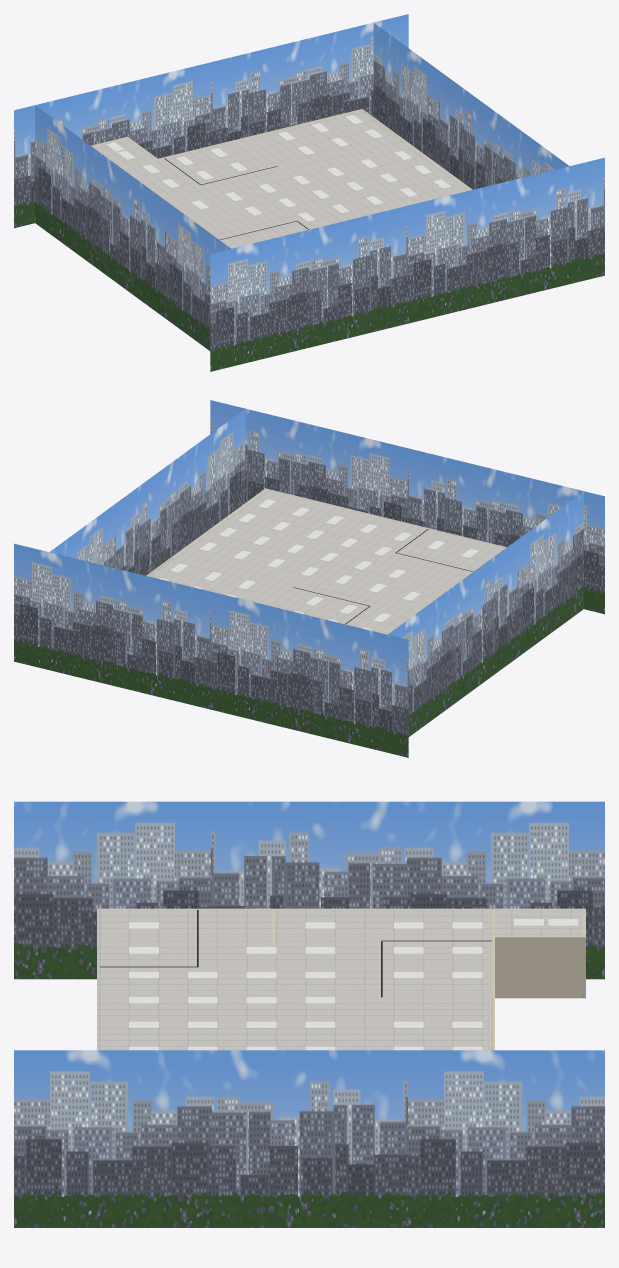
File: curriculo_caue_3d_draco.glb
3 renders of one model, top to bottom at view 1: azimuth 30°, elevation 25°; view 2: azimuth 150°, elevation 25°; view 3: azimuth 270°, elevation 25°, orthographic. The views are drawn at different scales.
Visible parts, largest first — view 1: VISTA_Sul, VISTA_Norte, FORRO, VISTA_Oeste, VISTA_Leste, FORRO_Corredor; view 2: VISTA_Norte, VISTA_Sul, FORRO, VISTA_Oeste, VISTA_Leste; view 3: VISTA_Leste, VISTA_Oeste, FORRO, CORREDOR_Parede_L, FORRO_Corredor, PAREDE_Oeste.
Boxes of the visible parts, x1,y1,x2,y2 form: VISTA_Sul: (210, 157, 604, 371); VISTA_Norte: (14, 14, 408, 228); FORRO: (122, 110, 470, 248); VISTA_Oeste: (35, 105, 230, 350); VISTA_Leste: (373, 23, 569, 189); FORRO_Corredor: (92, 138, 155, 167); VISTA_Norte: (14, 543, 408, 757); VISTA_Sul: (210, 400, 604, 614); FORRO: (148, 488, 506, 634); VISTA_Oeste: (388, 491, 583, 736); VISTA_Leste: (49, 409, 245, 575); VISTA_Leste: (14, 1050, 604, 1227); VISTA_Oeste: (14, 801, 604, 979); FORRO: (97, 908, 492, 1050); CORREDOR_Parede_L: (495, 936, 582, 998); FORRO_Corredor: (495, 910, 582, 935); PAREDE_Oeste: (99, 908, 492, 909).
Bounding box in the file's own units: 28 × 8 × 24.1.
Materials: 123 (21 with a texture image).
